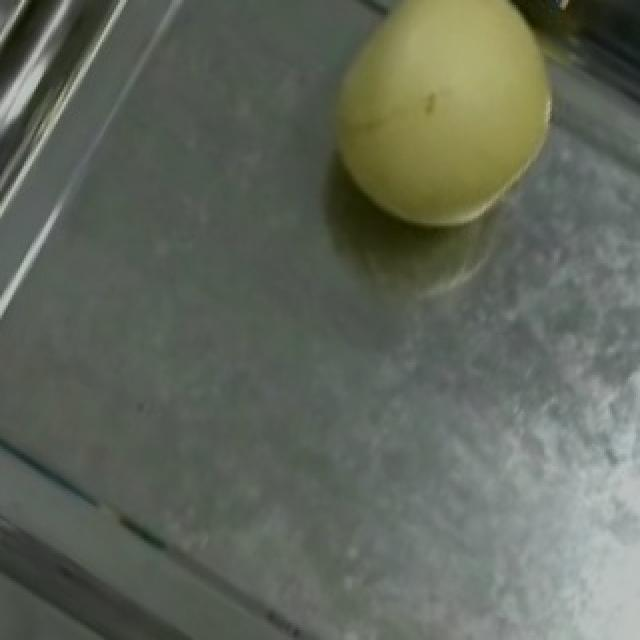Fruit: (282, 0, 588, 265)
